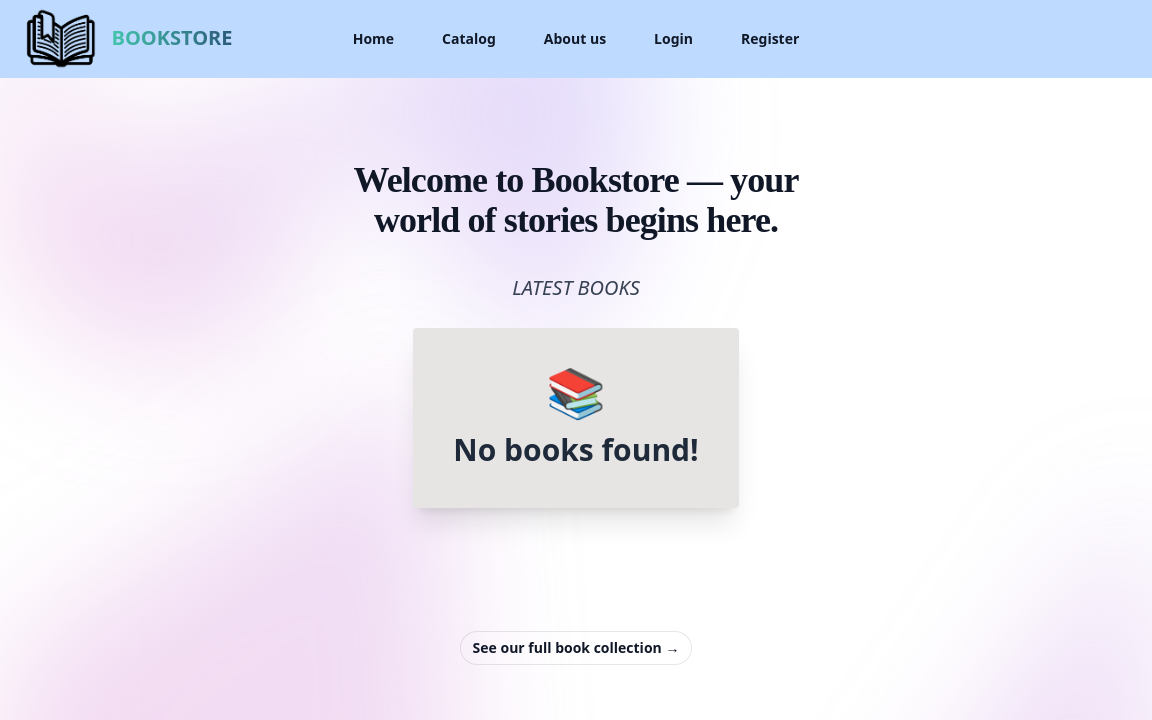
Test: App › Load navigation pages correctly › Catalog page
The image size is (1152, 720).
Step 1. Click the link "Catalog" → (469, 39), box [442, 27, 496, 51]
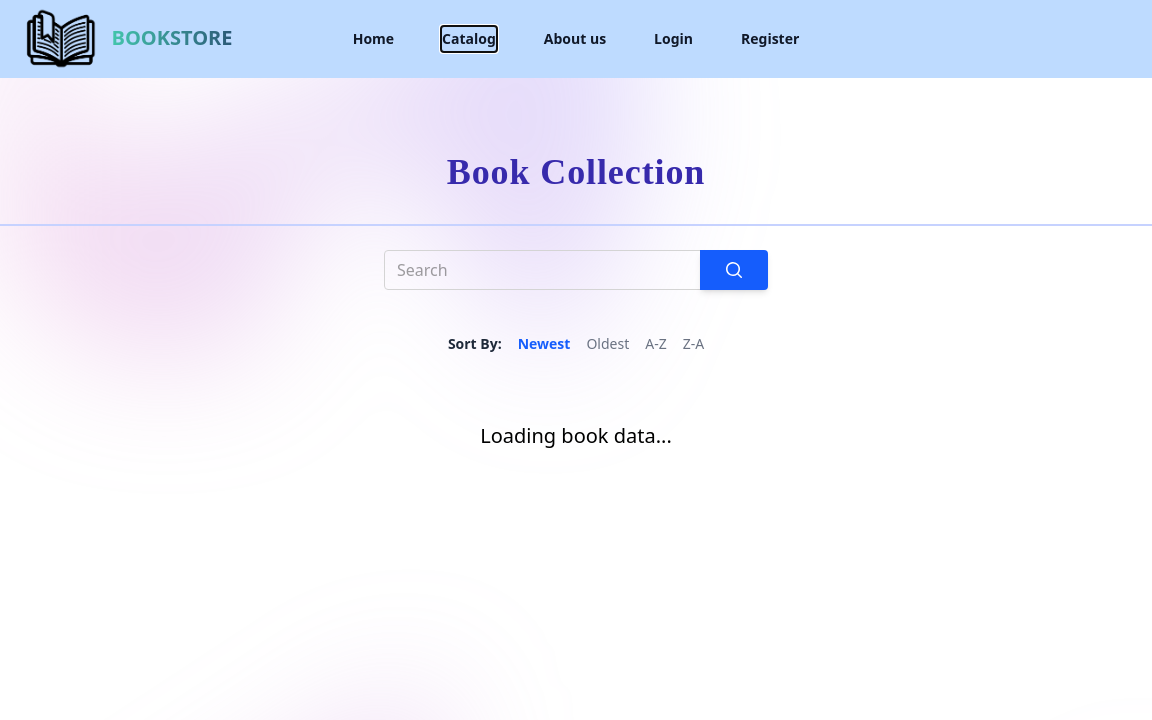
expect the heading "Book Collection" is shown: met, box [0, 120, 1151, 226]
